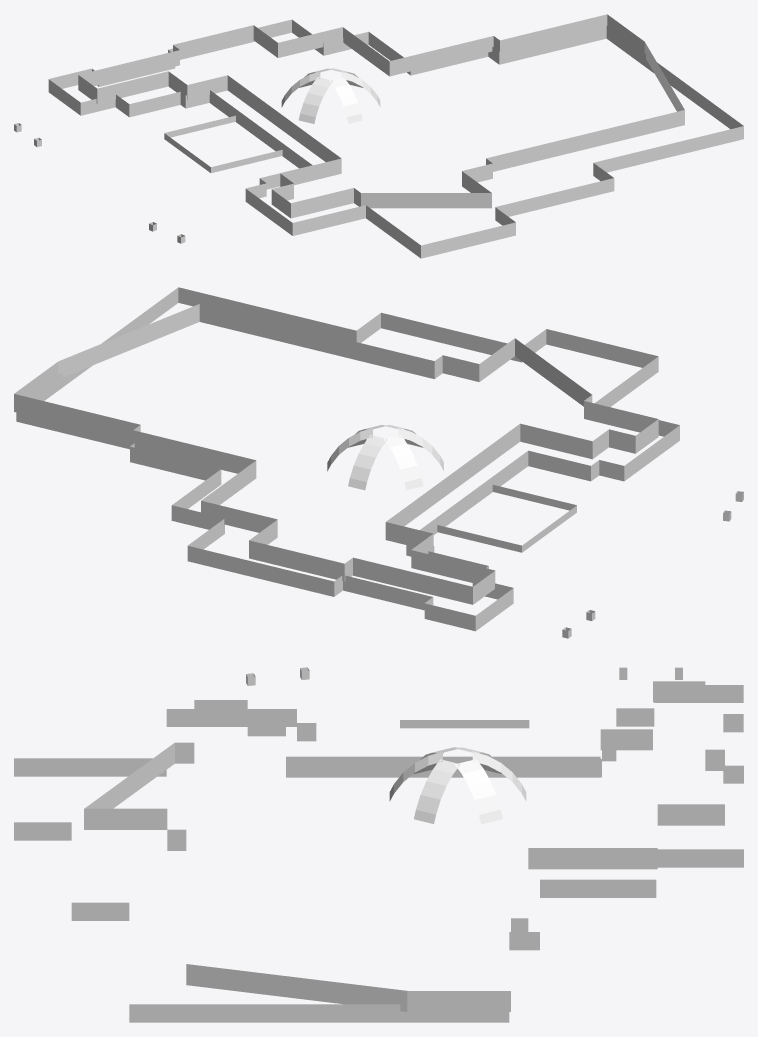
The model's file is visageneon.obj.
The picture shows the model from 3 angles, top to bottom: view 1: azimuth 30°, elevation 25°; view 2: azimuth 150°, elevation 25°; view 3: azimuth 270°, elevation 25°; orthographic projection. The views are drawn at different scales.
Visible parts, largest first — view 1: visageneon; view 2: visageneon; view 3: visageneon.
Part boxes in pixels (left/top/right/bottom): visageneon: left=14, top=14, right=743, bottom=258; visageneon: left=14, top=287, right=743, bottom=638; visageneon: left=14, top=667, right=743, bottom=1022.
Size of the model in its own units: 241 by 24.93 by 207.
1 material, 1 textured.
